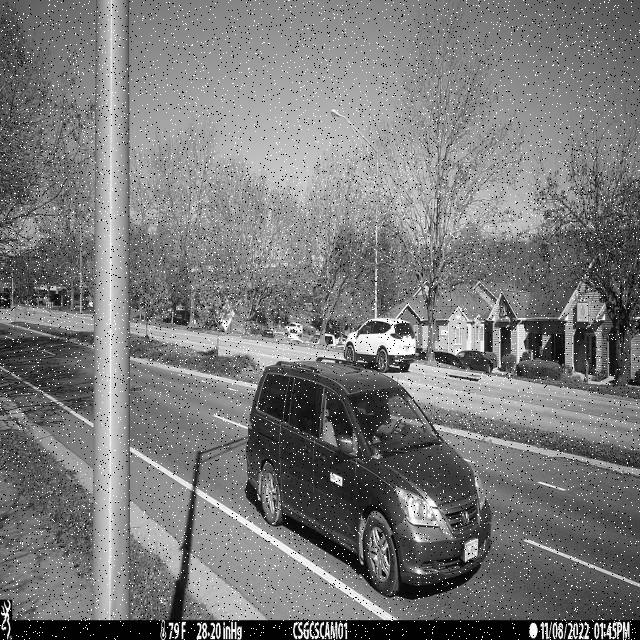Van: (245, 357, 493, 598)
